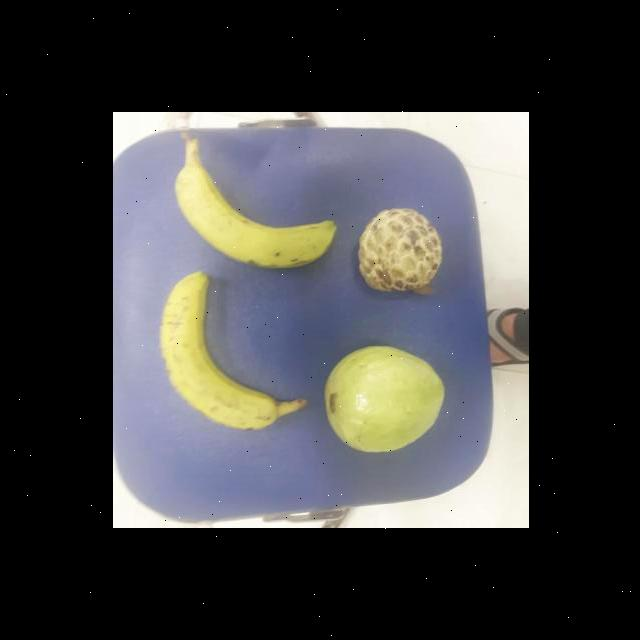Sakya fruit: (351, 206, 443, 294)
banana: (155, 266, 279, 436), (167, 162, 337, 270)
guava: (319, 336, 444, 456)
